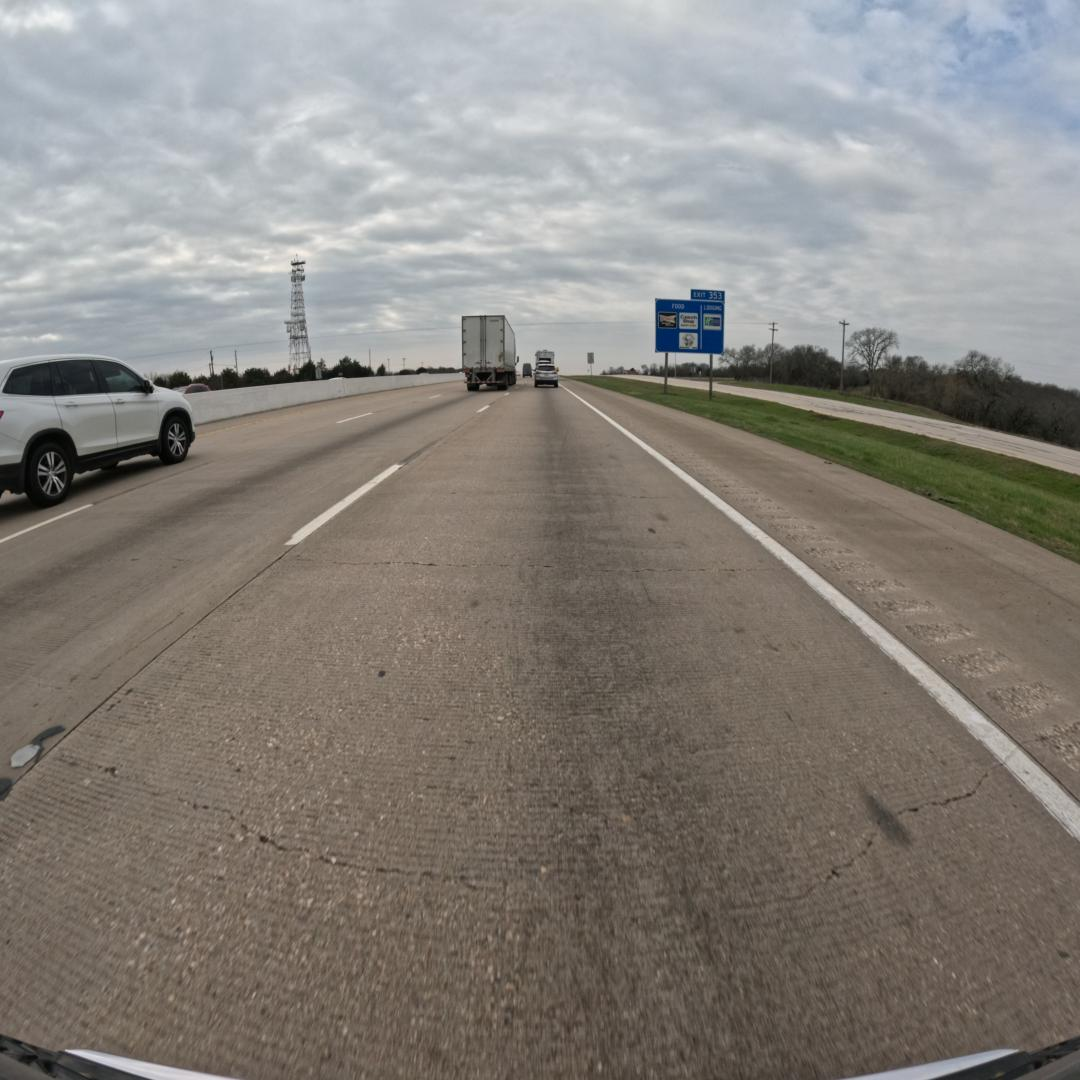lane0: (0, 389, 1080, 1077)
lane1: (0, 390, 501, 798)
